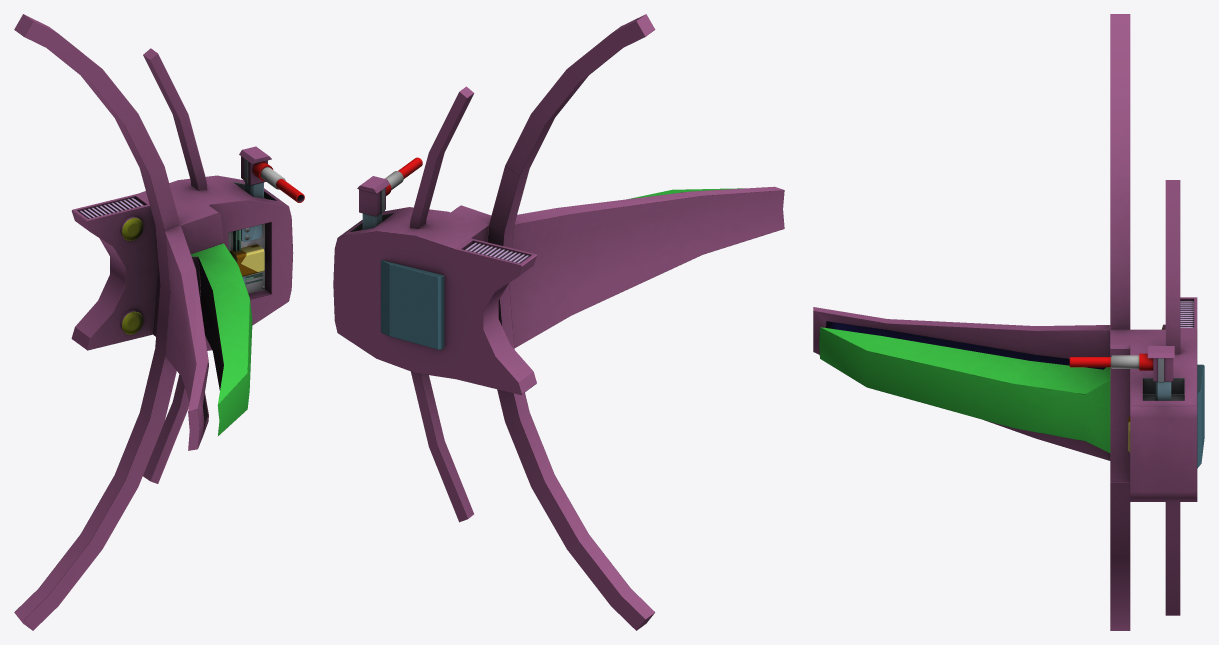
The model's file is sc_finalBoss_clawSpinner.FBX.
The picture shows the model from 3 angles, left to right: view 1: azimuth 30°, elevation 25°; view 2: azimuth 150°, elevation 25°; view 3: azimuth 270°, elevation 25°; orthographic projection.
Visible parts, largest first — view 1: clawSpinner, clawSpinner_turret, clawSpinner_weakpoint_broken, clawSpinner_weakpoint; view 2: clawSpinner, clawSpinner_turret; view 3: clawSpinner, clawSpinner_turret.
Boxes of the visible parts, <box> form: clawSpinner: <box>14,14,293,630</box>; clawSpinner_turret: <box>239,146,304,202</box>; clawSpinner_weakpoint_broken: <box>228,224,271,299</box>; clawSpinner_weakpoint: <box>230,222,271,284</box>; clawSpinner: <box>333,14,784,630</box>; clawSpinner_turret: <box>357,157,422,229</box>; clawSpinner: <box>813,14,1204,630</box>; clawSpinner_turret: <box>1069,346,1174,400</box>.
Bounding box in the file's own units: 78.94 × 165 × 94.67.
